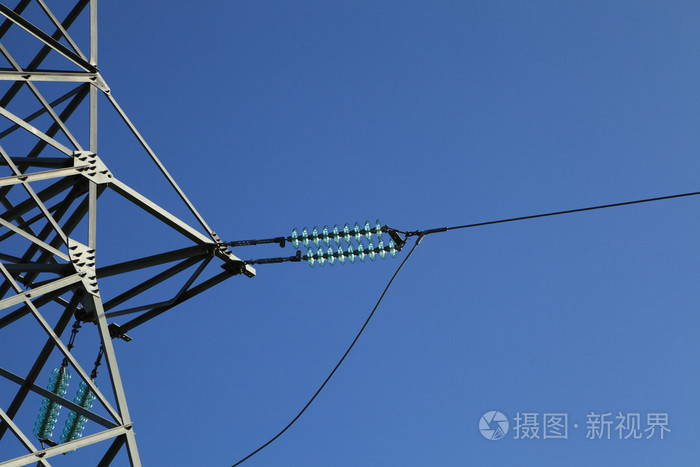insulator: (291, 217, 385, 250), (306, 238, 400, 268), (34, 366, 70, 438), (60, 379, 98, 443)
